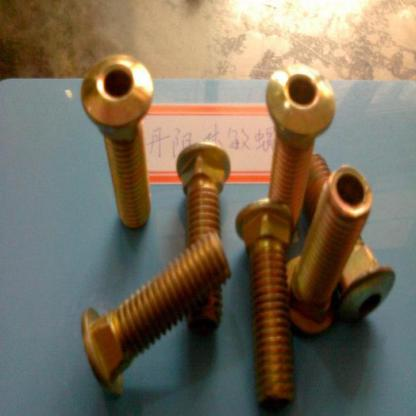FOD: (77, 232, 232, 404), (278, 161, 375, 338), (262, 62, 336, 252), (235, 198, 300, 410), (80, 52, 154, 228), (176, 145, 231, 336)
